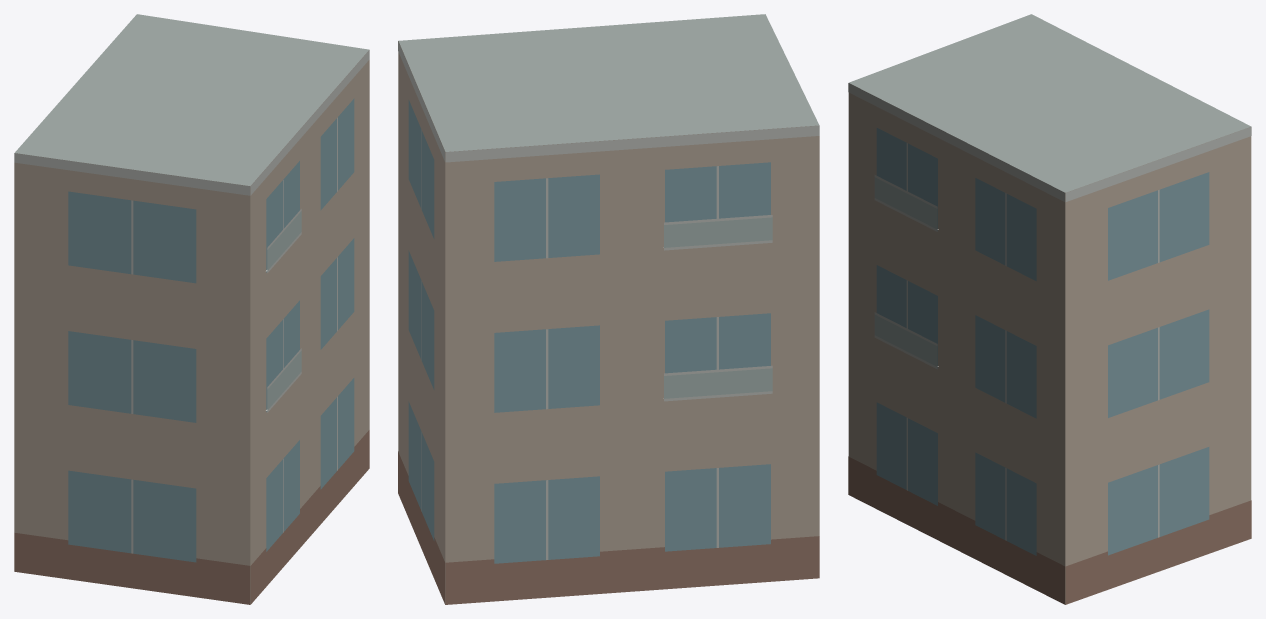
Rendered from survey-upis-32726159.glb.
3 renders of one model, left to right at view 1: azimuth 30°, elevation 25°; view 2: azimuth 150°, elevation 25°; view 3: azimuth 270°, elevation 25°, orthographic. The views are drawn at different scales.
Parts seen in each view (by area): view 1: survey-upis-32726159.tmp; view 2: survey-upis-32726159.tmp; view 3: survey-upis-32726159.tmp.
Part boxes in pixels (x1=…): survey-upis-32726159.tmp: x1=14, y1=14, x2=369, y2=604; survey-upis-32726159.tmp: x1=398, y1=14, x2=819, y2=604; survey-upis-32726159.tmp: x1=848, y1=14, x2=1251, y2=604.
Size of the model in its own units: 9.83 by 10.55 by 9.36.
